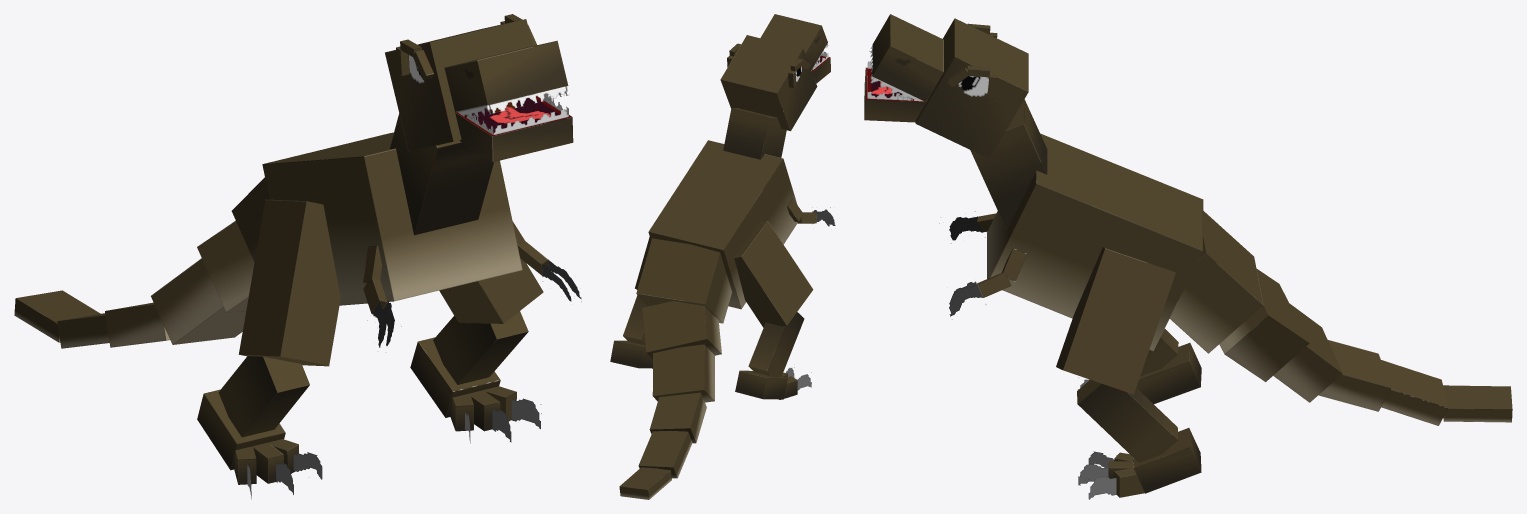
The model's file is animateddinosaur39.obj.
3 renders of one model, left to right at view 1: azimuth 30°, elevation 25°; view 2: azimuth 150°, elevation 25°; view 3: azimuth 270°, elevation 25°, orthographic. The views are drawn at different scales.
Parts seen in each view (by area): view 1: Object_6, Object_9, Object_64, Object_53, Object_56, Object_12, Object_98, Object_79, Object_34, Object_31, Object_95, Object_37 (+9 smaller); view 2: Object_6, Object_64, Object_92, Object_9, Object_95, Object_98, Object_53, Object_12, Object_101, Object_56, Object_104, Object_107 (+4 smaller); view 3: Object_6, Object_31, Object_64, Object_92, Object_95, Object_34, Object_53, Object_56, Object_101, Object_98, Object_104, Object_107 (+4 smaller).
Part boxes in pixels (box(x1,y1,x2,y2)): Object_6: box(262, 132, 522, 305); Object_9: box(238, 199, 340, 366); Object_64: box(385, 19, 532, 151); Object_53: box(389, 113, 493, 235); Object_56: box(444, 40, 568, 112); Object_12: box(218, 356, 309, 437); Object_98: box(151, 258, 245, 344); Object_79: box(455, 96, 573, 161); Object_34: box(433, 311, 528, 384); Object_31: box(439, 258, 543, 323); Object_95: box(197, 220, 254, 312); Object_37: box(410, 337, 500, 417); Object_6: box(648, 140, 797, 309); Object_64: box(720, 35, 817, 131); Object_92: box(636, 238, 731, 323); Object_9: box(734, 221, 813, 327); Object_95: box(642, 301, 721, 359); Object_98: box(652, 344, 714, 402); Object_53: box(723, 108, 786, 159); Object_12: box(748, 312, 804, 376); Object_101: box(649, 392, 706, 443); Object_56: box(760, 14, 827, 70); Object_104: box(638, 430, 692, 478); Object_107: box(619, 467, 671, 499); Object_6: box(987, 133, 1203, 351); Object_31: box(1056, 247, 1175, 394); Object_64: box(915, 18, 1028, 158); Object_92: box(1169, 211, 1263, 353); Object_95: box(1219, 268, 1309, 381); Object_34: box(1077, 380, 1178, 462); Object_53: box(970, 99, 1047, 230); Object_56: box(872, 14, 943, 101); Object_101: box(1318, 340, 1391, 411); Object_98: box(1273, 303, 1342, 402); Object_104: box(1381, 360, 1447, 425); Object_107: box(1443, 385, 1512, 422).
Bounding box in the file's own units: 2.25 × 3.85 × 5.33.
